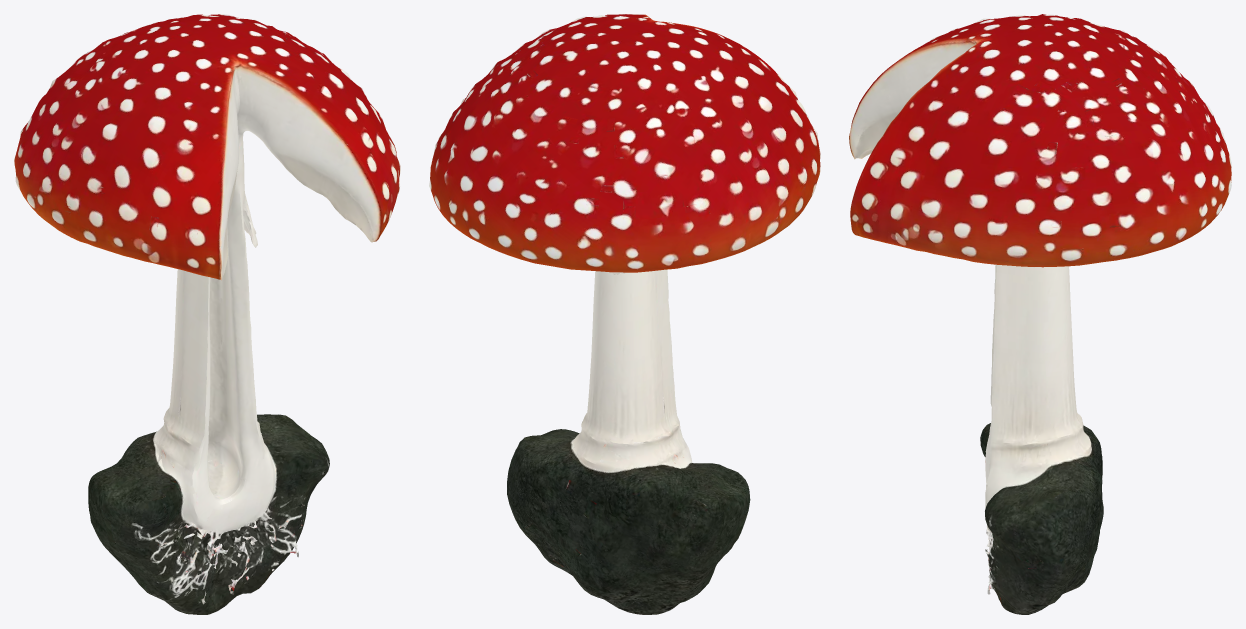
File: mushroom.glb
3 views of the same model, side by side, from view 1: azimuth 30°, elevation 25°; view 2: azimuth 150°, elevation 25°; view 3: azimuth 270°, elevation 25° (orthographic).
Visible parts, largest first — view 1: Mesh0; view 2: Mesh0; view 3: Mesh0.
Part boxes in pixels (<box>): Mesh0: <box>14,14,400,614</box>; Mesh0: <box>429,14,820,614</box>; Mesh0: <box>849,14,1231,614</box>.
Size of the model in its own units: 1.13 by 1.91 by 1.14.
Materials: 1 (1 with a texture image).
